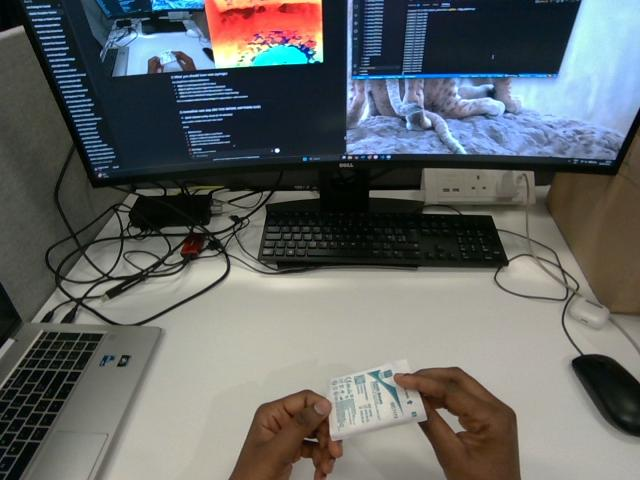gauze: (328, 360, 426, 439)
